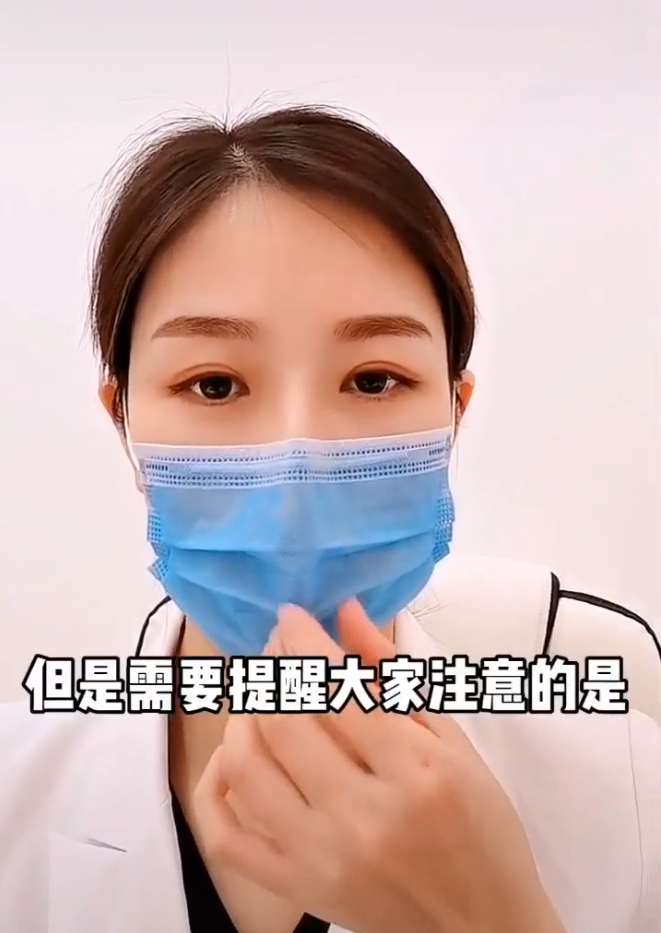face_mask: (127, 212, 454, 666)
